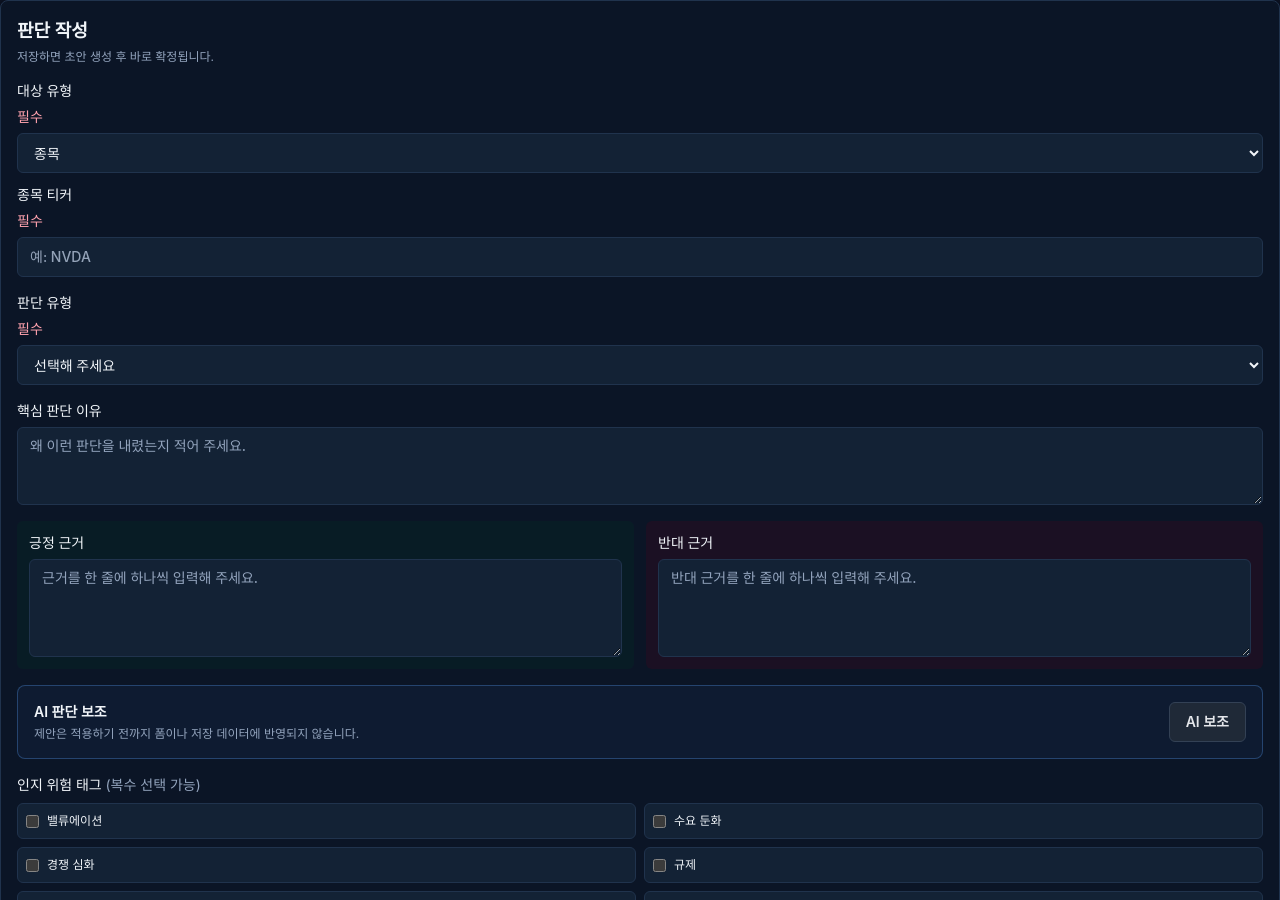
Scenario: DecisionFormPanel › changes the identifier label with the selected target type
Select "포트폴리오" in the dropdown labelled "대상 유형 필수" at (640, 153), box [17,133,1263,173]
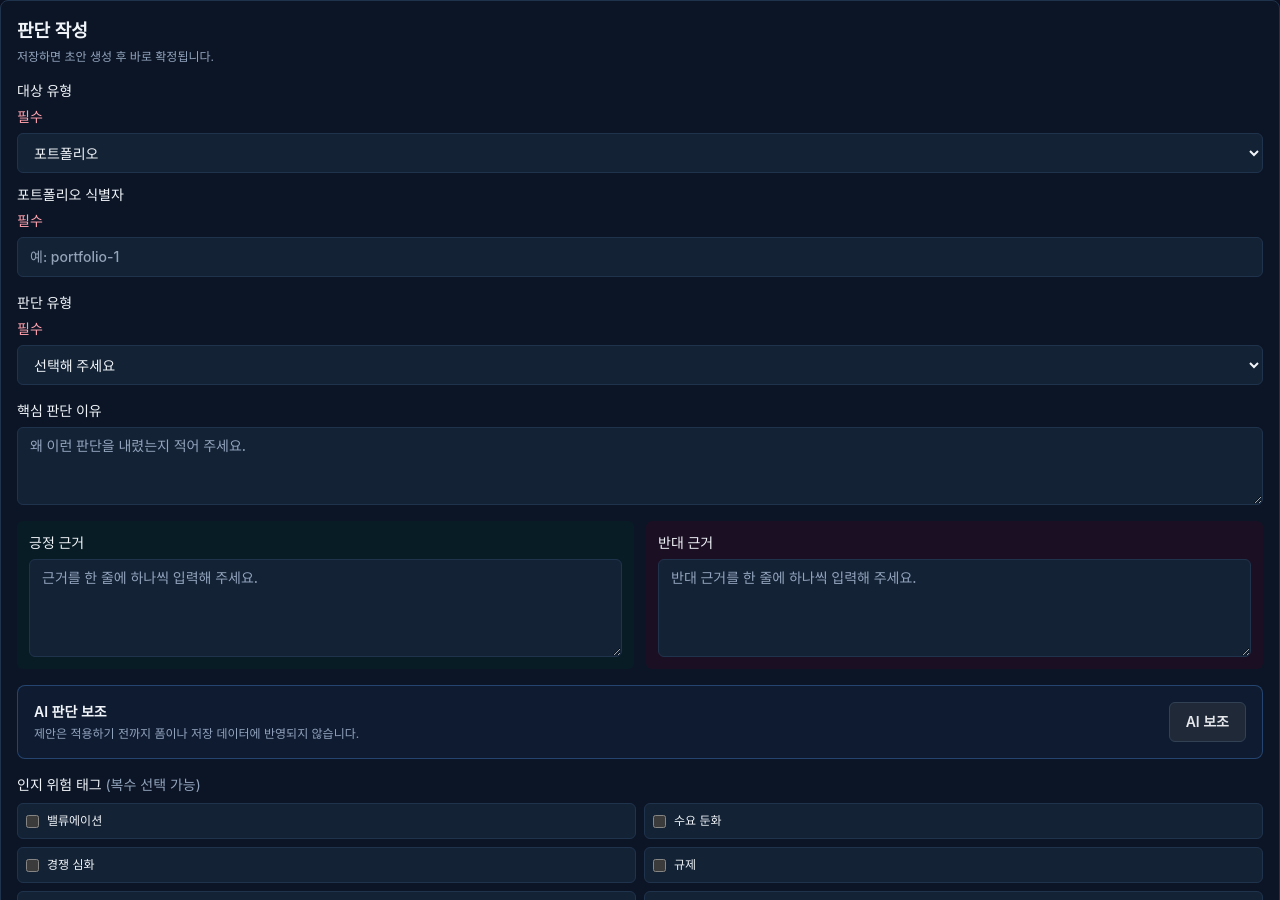
Expected: the field labelled "포트폴리오 식별자 필수" is shown, [17,237,1263,277]
Expected: the label labelled "종목 티커" is gone
